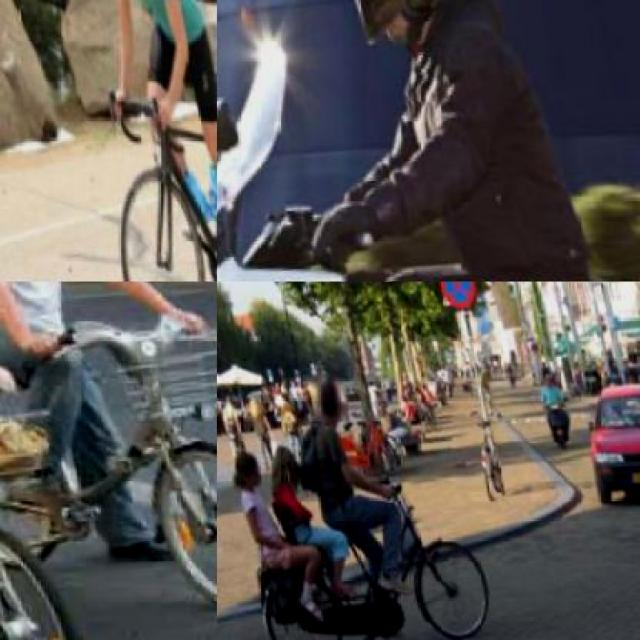With Helmet: (321, 0, 475, 58)
Without Helmet: (304, 367, 347, 422)
